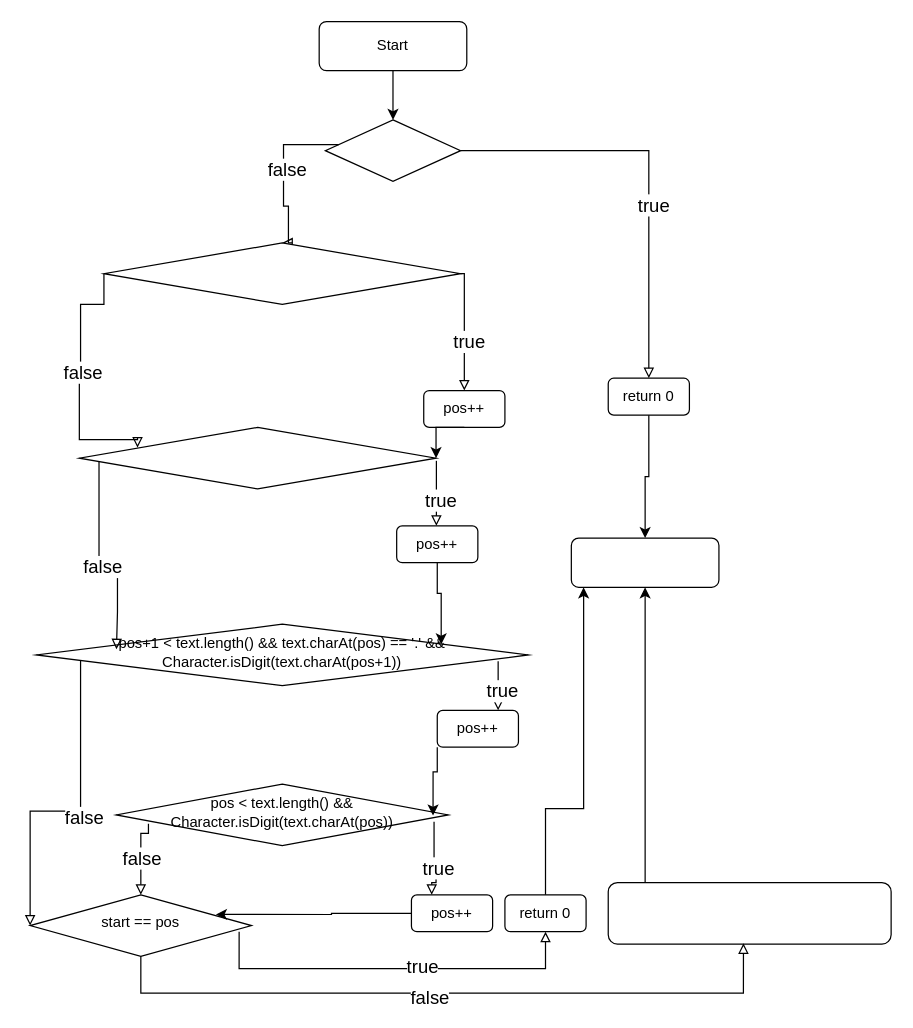
Image size: 913x1028. Some labels were removed from this diagram. Here are the shapes that lost their labels. From the top down, the centre of each, then its label:
the point at 392,150: text == null
the point at 282,273: pos < text.length() && !Character.isDigit(text.charAt(pos)
the point at 257,457: pos < text.length() && Character.isDigit(text.charAt(pos)
the point at 644,562: End
the point at 749,912: number = Double.parseDouble(text.substring(start, pos))
